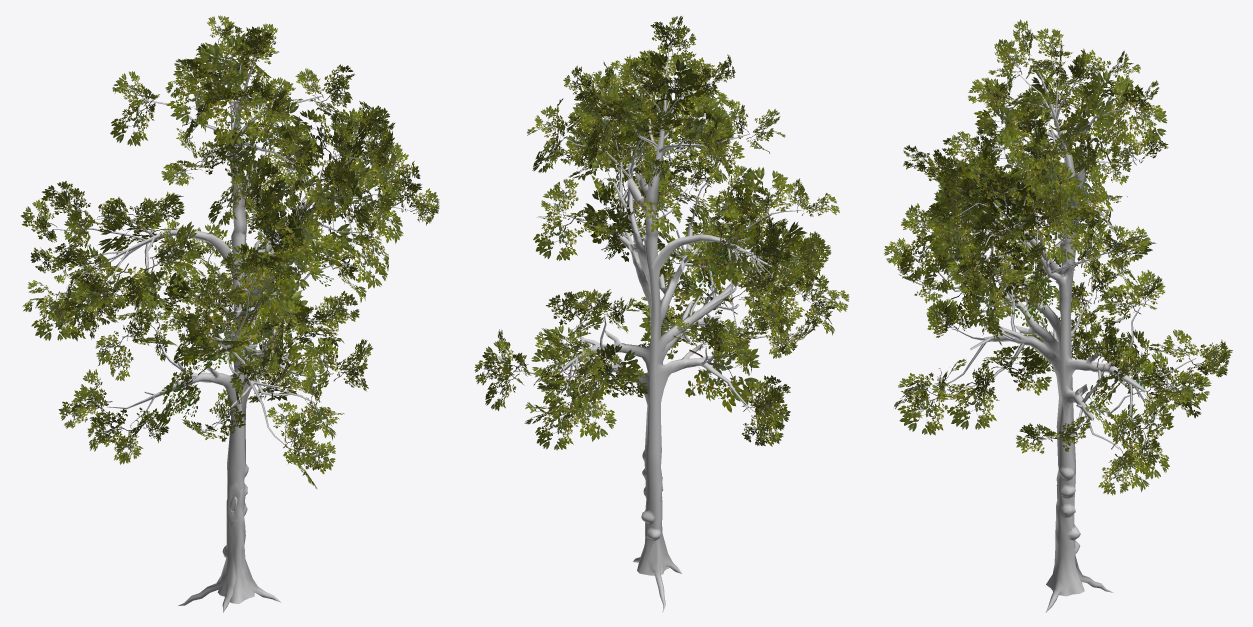
Rendered from Tree_big1.fbx.
The picture shows the model from 3 angles, left to right: view 1: azimuth 30°, elevation 25°; view 2: azimuth 150°, elevation 25°; view 3: azimuth 270°, elevation 25°; orthographic projection. The views are drawn at different scales.
Parts seen in each view (by area): view 1: LOD0; view 2: LOD0; view 3: LOD0.
Boxes of the visible parts, left/top/right/bottom form: LOD0: left=21, top=15, right=439, bottom=612; LOD0: left=474, top=16, right=849, bottom=612; LOD0: left=883, top=19, right=1232, bottom=612.
Size of what is drawn, in the model's own units: 16.14 by 25.58 by 14.02.
